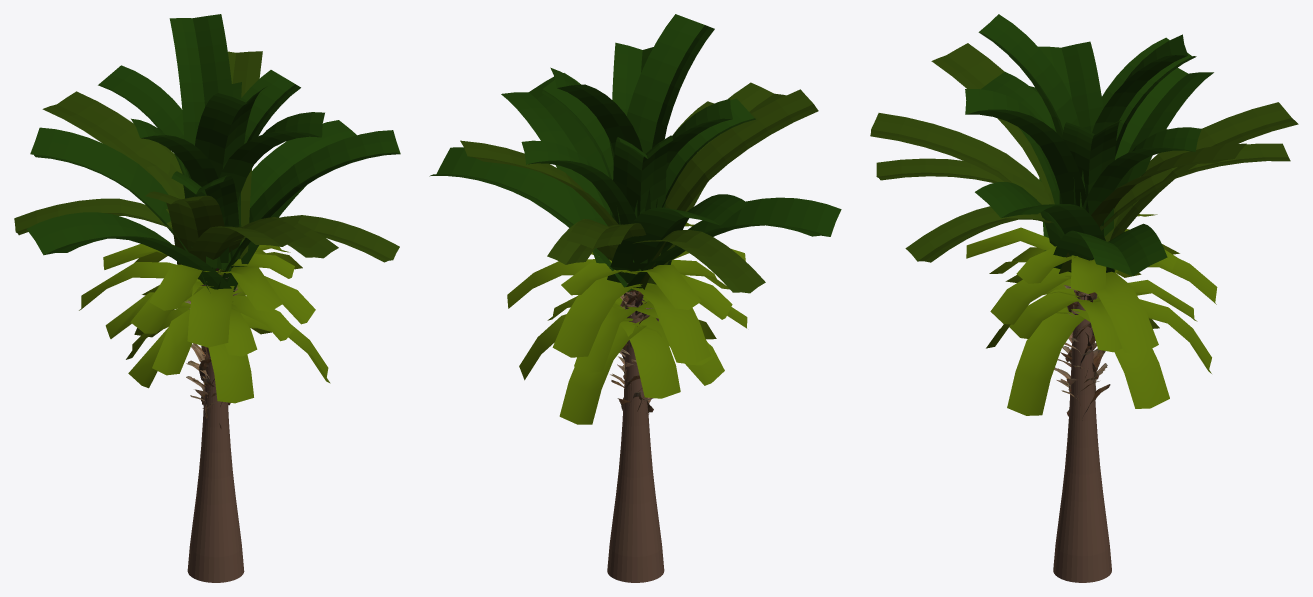
Rendered from banana-plant.lod1.glb.
The picture shows the model from 3 angles, left to right: view 1: azimuth 30°, elevation 25°; view 2: azimuth 150°, elevation 25°; view 3: azimuth 270°, elevation 25°; orthographic projection. The views are drawn at different scales.
Parts seen in each view (by area): view 1: Cylinder_Palm_Bark_tiglajzdy_0, Cylinder_Dead_Fan_sdbcdah2_0; view 2: Cylinder_Palm_Bark_tiglajzdy_0, Cylinder_Dead_Fan_sdbcdah2_0; view 3: Cylinder_Palm_Bark_tiglajzdy_0, Cylinder_Dead_Fan_sdbcdah2_0.
Part boxes in pixels (x1,y1,x2,y2): Cylinder_Palm_Bark_tiglajzdy_0: (14,14,400,582); Cylinder_Dead_Fan_sdbcdah2_0: (184,268,240,428); Cylinder_Palm_Bark_tiglajzdy_0: (429,14,841,582); Cylinder_Dead_Fan_sdbcdah2_0: (610,283,658,414); Cylinder_Palm_Bark_tiglajzdy_0: (870,14,1298,582); Cylinder_Dead_Fan_sdbcdah2_0: (1054,285,1110,420).
Size of the model in its own units: 3.06 by 4.2 by 3.04.
Materials: 2 (1 with a texture image).
